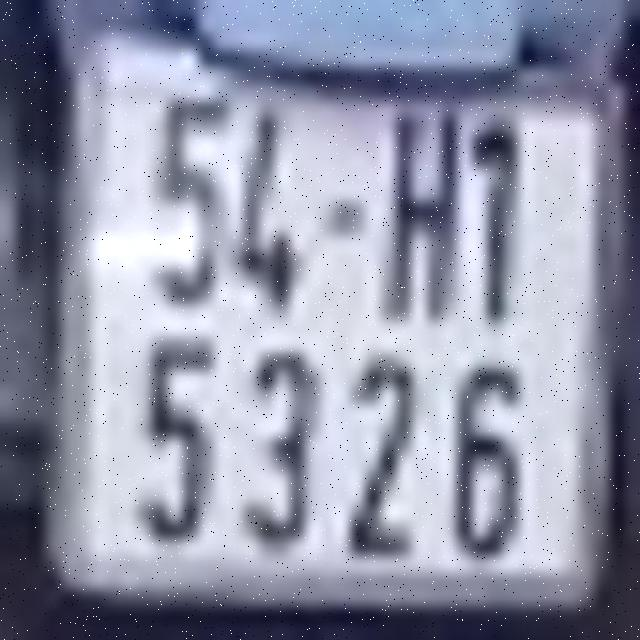1: (472, 122, 520, 325)
2: (346, 355, 416, 558)
3: (246, 348, 314, 548)
4: (240, 112, 298, 311)
5: (155, 96, 226, 304), (144, 337, 215, 542)
6: (454, 363, 524, 558)
H: (386, 109, 461, 325)
